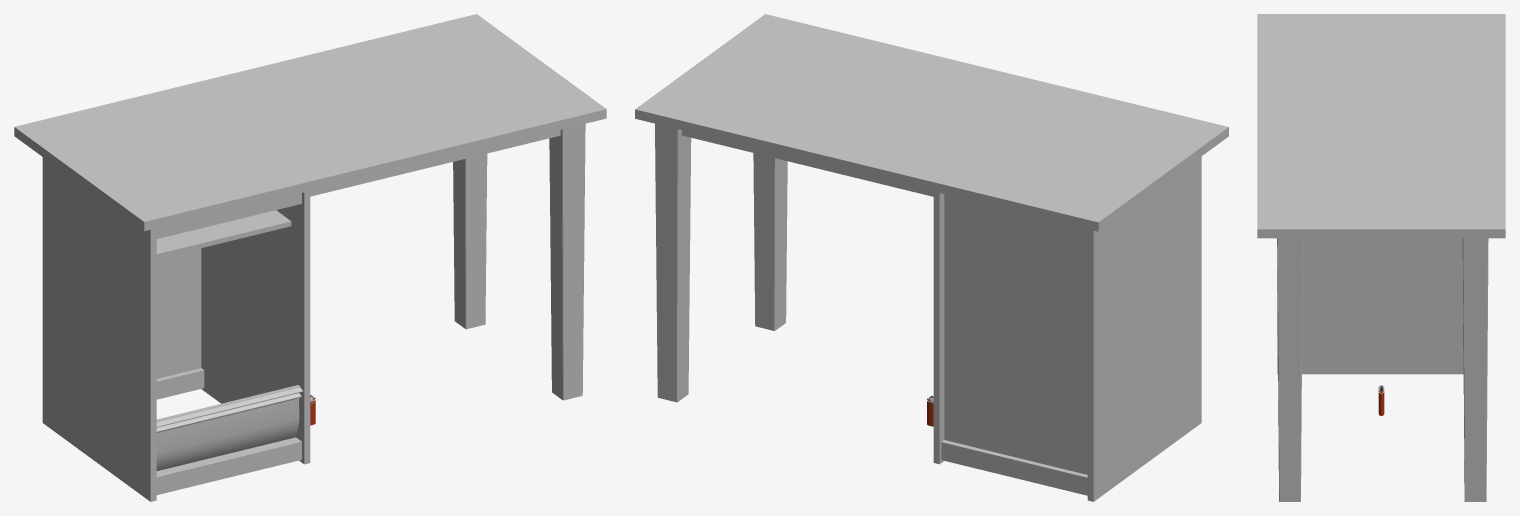
3 views of the same model, side by side, from view 1: azimuth 30°, elevation 25°; view 2: azimuth 150°, elevation 25°; view 3: azimuth 270°, elevation 25° (orthographic). The views are drawn at different scales.
Parts seen in each view (by area): view 1: Desk; view 2: Desk; view 3: Desk.
Part boxes in pixels (bbox=[...]): Desk: bbox=[14, 14, 606, 501]; Desk: bbox=[635, 14, 1228, 501]; Desk: bbox=[1257, 14, 1505, 501].
Bounding box in the file's own units: 139 × 88.24 × 67.91.
